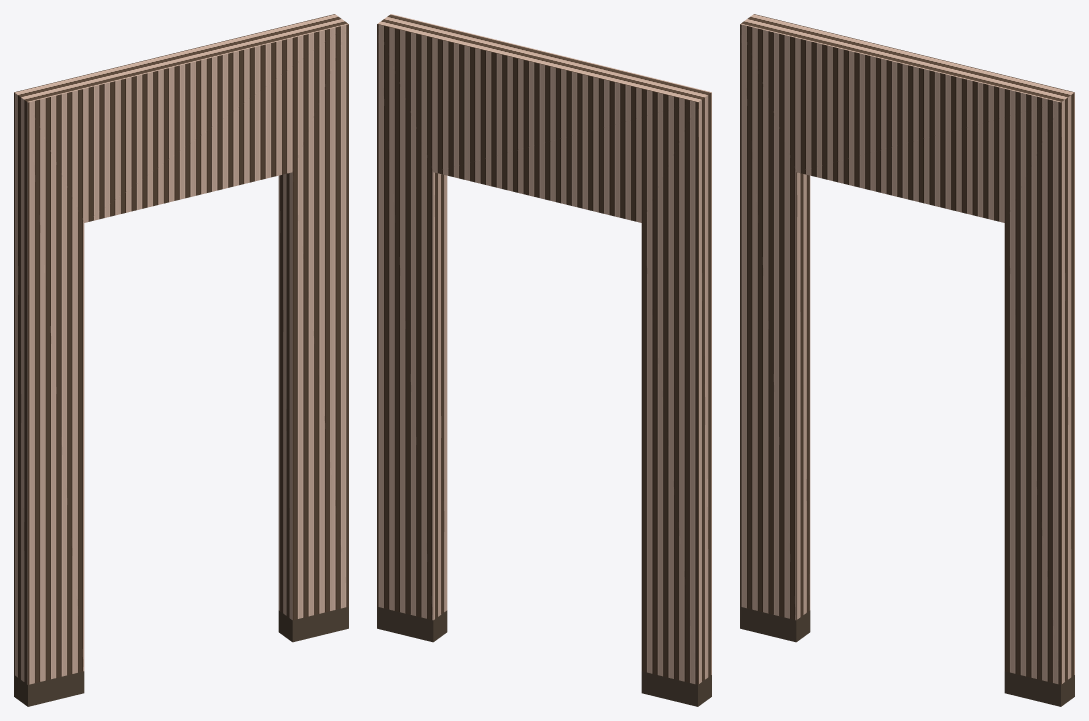
Rendered from ARC0210001.fbx.
The picture shows the model from 3 angles, left to right: view 1: azimuth 30°, elevation 25°; view 2: azimuth 150°, elevation 25°; view 3: azimuth 330°, elevation 25°; orthographic projection.
Visible parts, largest first — view 1: smARC0210001; view 2: smARC0210001; view 3: smARC0210001.
Boxes of the visible parts, box(x1,y1,x2,y2) form: smARC0210001: box(14, 14, 348, 706); smARC0210001: box(377, 14, 711, 706); smARC0210001: box(740, 14, 1074, 706).
Size of the model in its own units: 182 by 328 by 13.67.
1 material, 1 textured.
